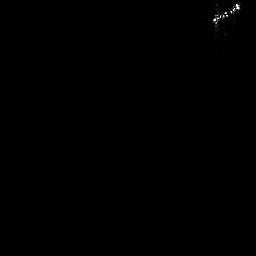ship: (207, 1, 244, 30)
